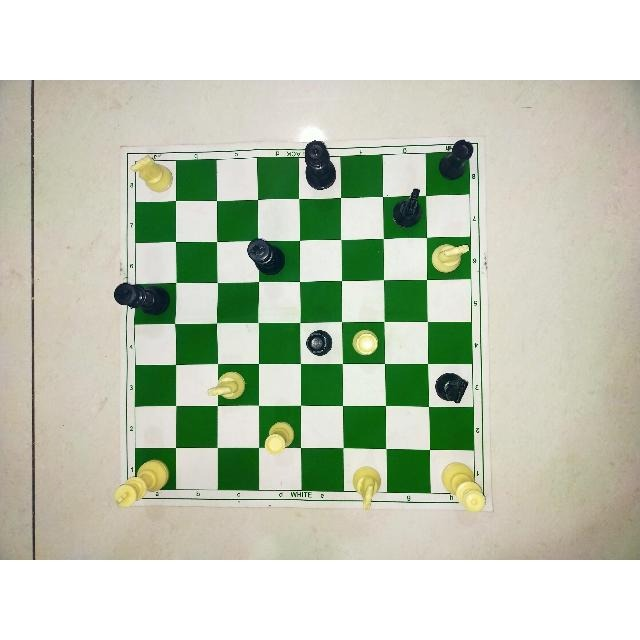black-king: (109, 278, 170, 322), (242, 233, 290, 277)
black-knight: (387, 182, 426, 231), (430, 366, 470, 408)
black-queen: (298, 138, 339, 194)
black-rook: (437, 137, 478, 185), (299, 322, 340, 364)
white-king: (106, 452, 172, 513)
white-knight: (123, 151, 174, 199), (345, 455, 386, 511), (427, 233, 472, 281), (200, 367, 252, 403)
white-queen: (435, 455, 489, 518)
white-rook: (260, 416, 300, 457), (345, 324, 381, 365)
